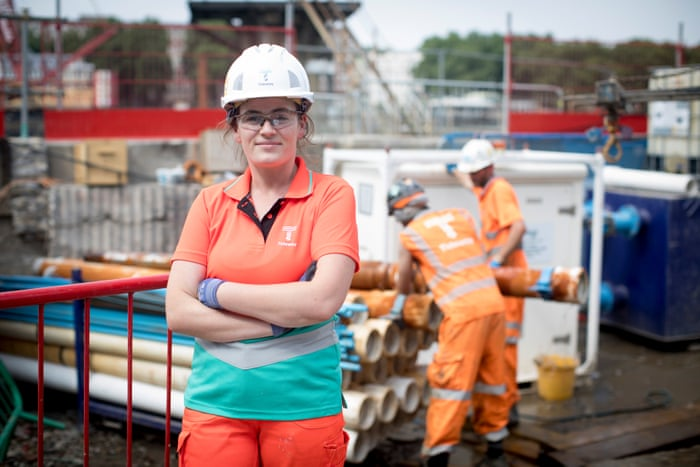Hard Hat: (219, 44, 325, 106), (455, 137, 503, 171), (387, 177, 427, 211)
High Viz: (402, 219, 496, 296), (476, 191, 526, 260)
